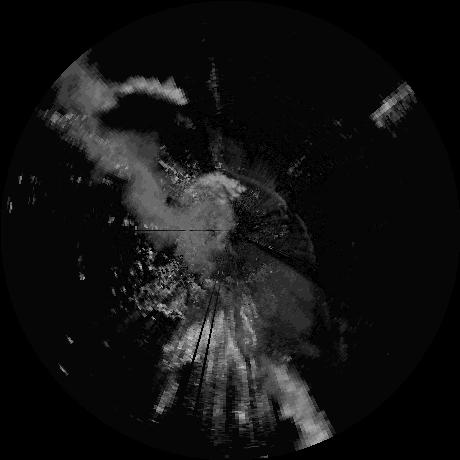frontgust: (224, 168, 286, 205)
